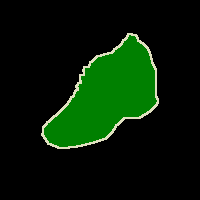shoe: (42, 34, 158, 148)
